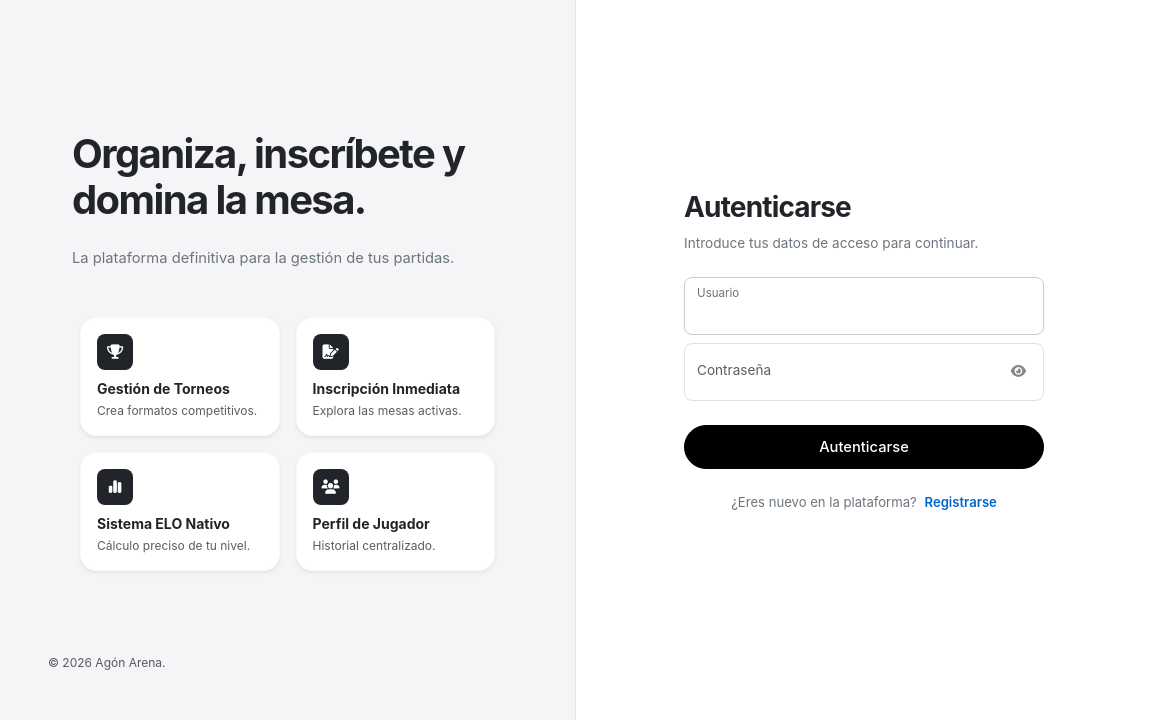
Scenario: Login › muestra error de conexion si el backend lanza
In the field with placeholder "Usuario": (864, 306) [684,277,1044,335], type "ana"
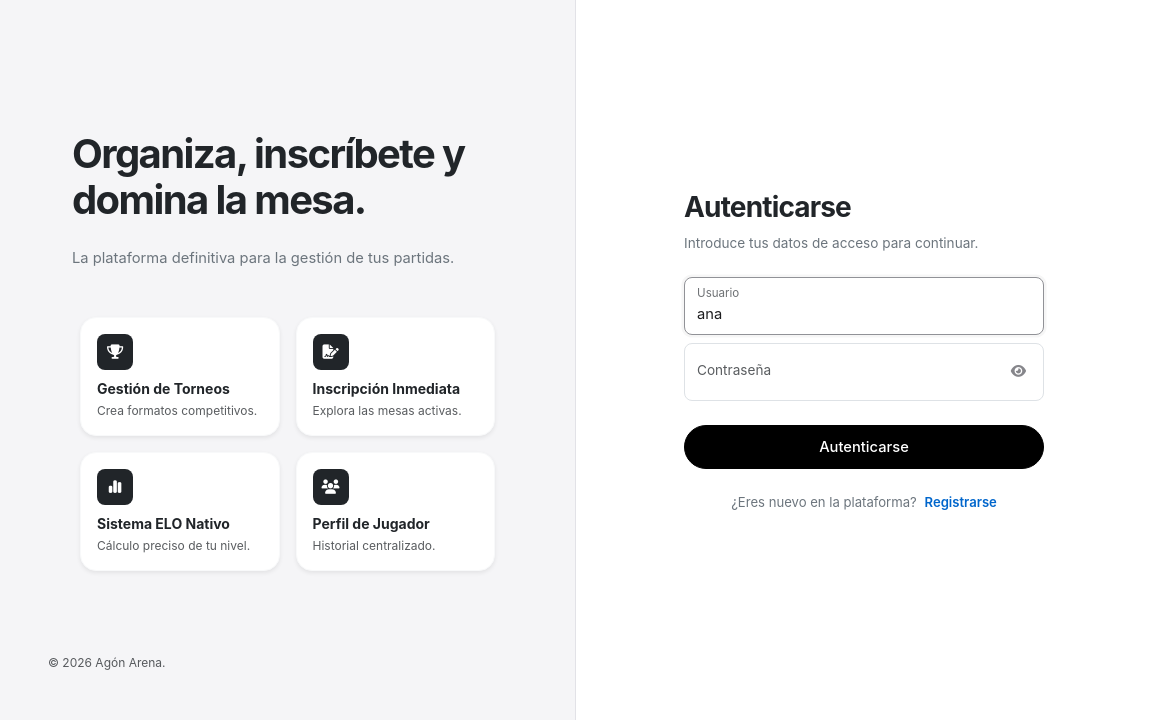
In the password field with placeholder "Contraseña": (864, 372) [684,343,1044,401], type "secreta1"
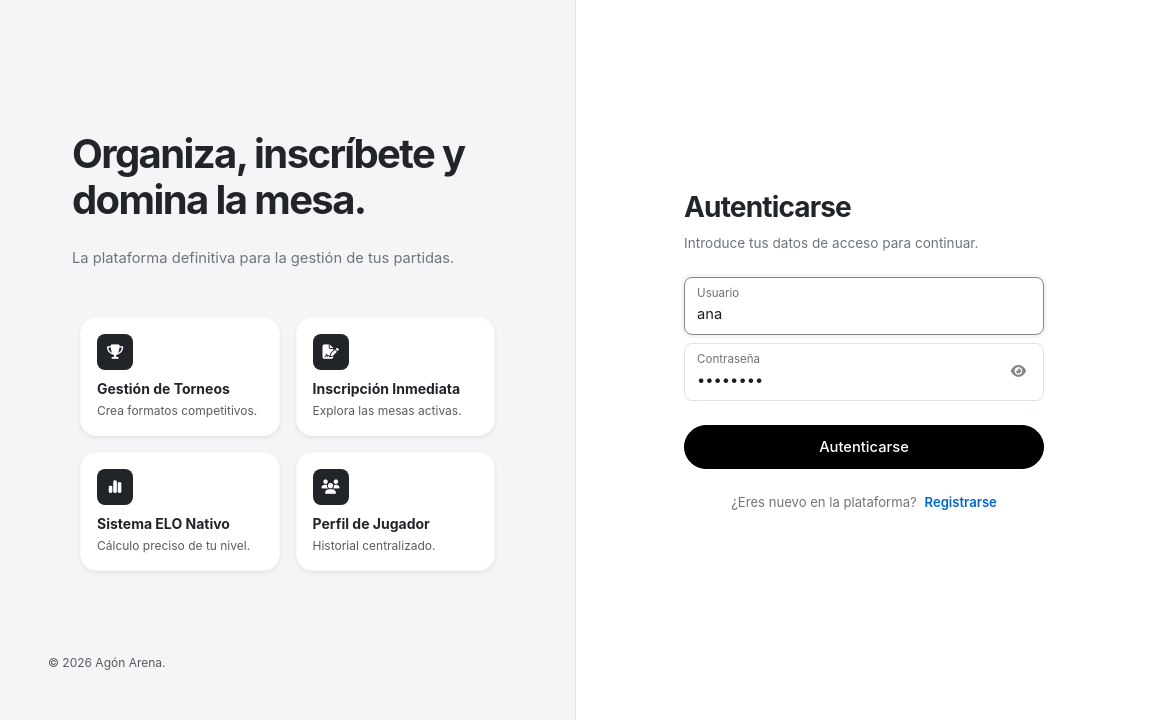
Submit the form, box [684,277,1044,469]
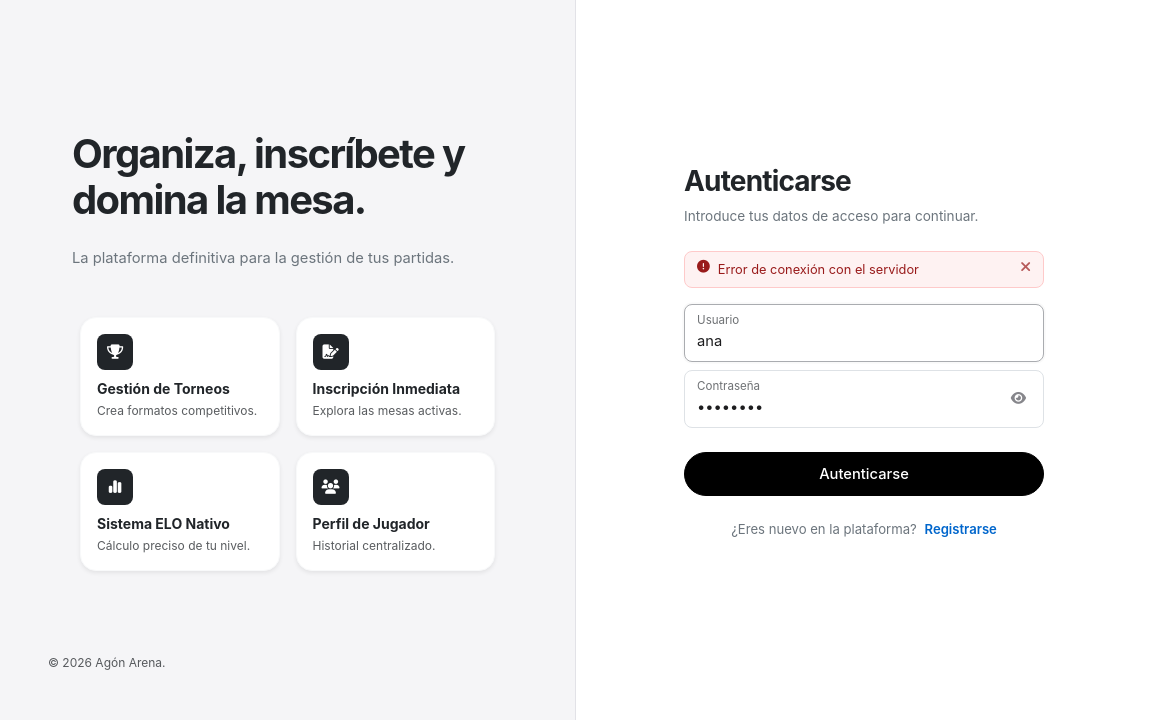
Expected: the text "Error de conexión con el servidor" is shown, [718,262,919,276]
